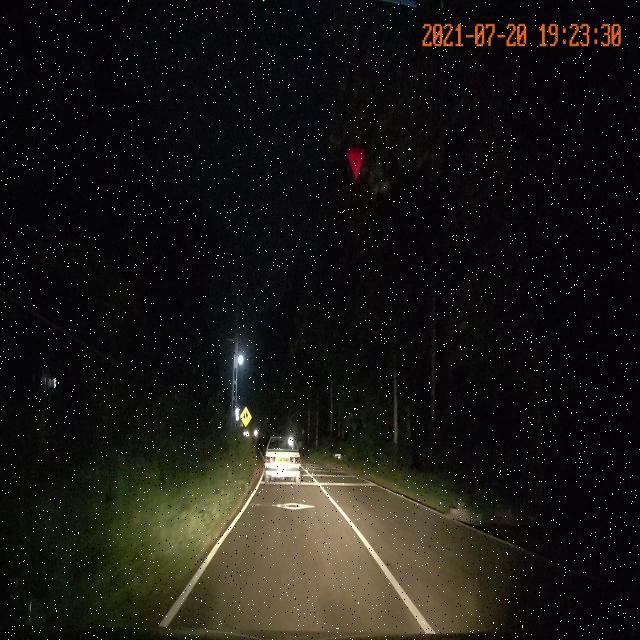diamond: (235, 488, 354, 522)
